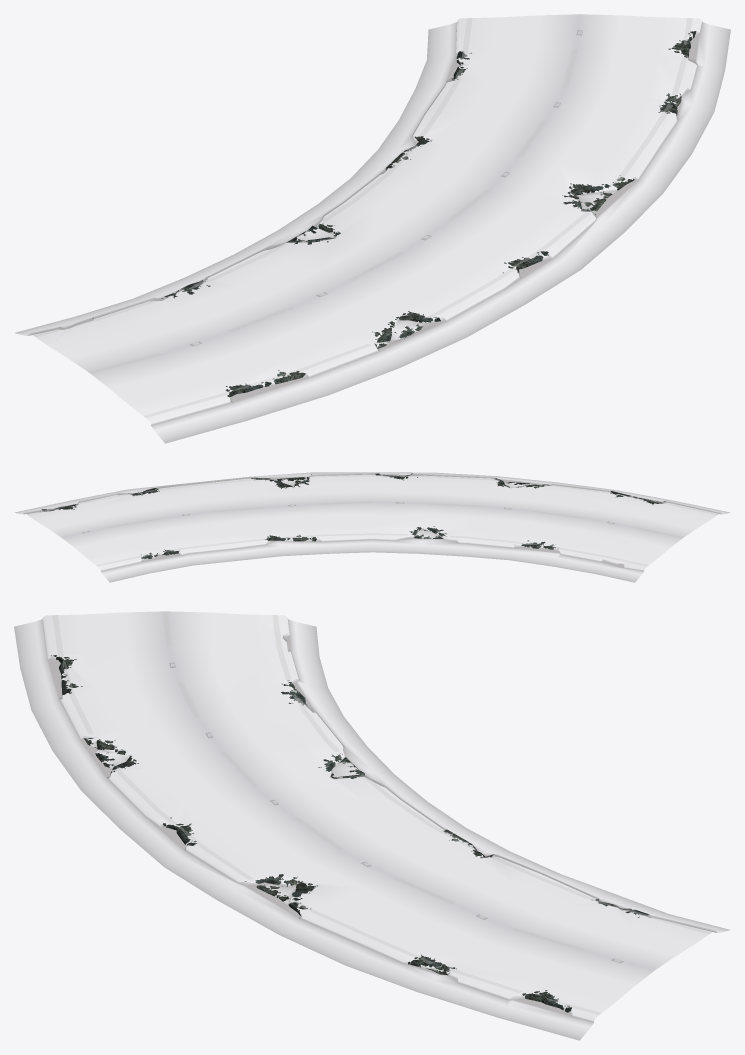
File: RoadTurnL.FBX
The picture shows the model from 3 angles, top to bottom: view 1: azimuth 30°, elevation 25°; view 2: azimuth 150°, elevation 25°; view 3: azimuth 270°, elevation 25°; orthographic projection. The views are drawn at different scales.
Parts seen in each view (by area): view 1: WastelandRoadCurveLongL:0, PittedDecal; view 2: WastelandRoadCurveLongL:0, PittedDecal; view 3: WastelandRoadCurveLongL:0, PittedDecal.
Part boxes in pixels (x1=…): WastelandRoadCurveLongL:0: x1=16, y1=14, x2=730, y2=443; PittedDecal: x1=161, y1=31, x2=696, y2=397; WastelandRoadCurveLongL:0: x1=15, y1=472, x2=729, y2=582; PittedDecal: x1=41, y1=473, x2=665, y2=558; WastelandRoadCurveLongL:0: x1=14, y1=611, x2=728, y2=1040; PittedDecal: x1=51, y1=655, x2=649, y2=1012.
Size of what is drawn, in the model's own units: 20.47 by 0.3998 by 14.98.
